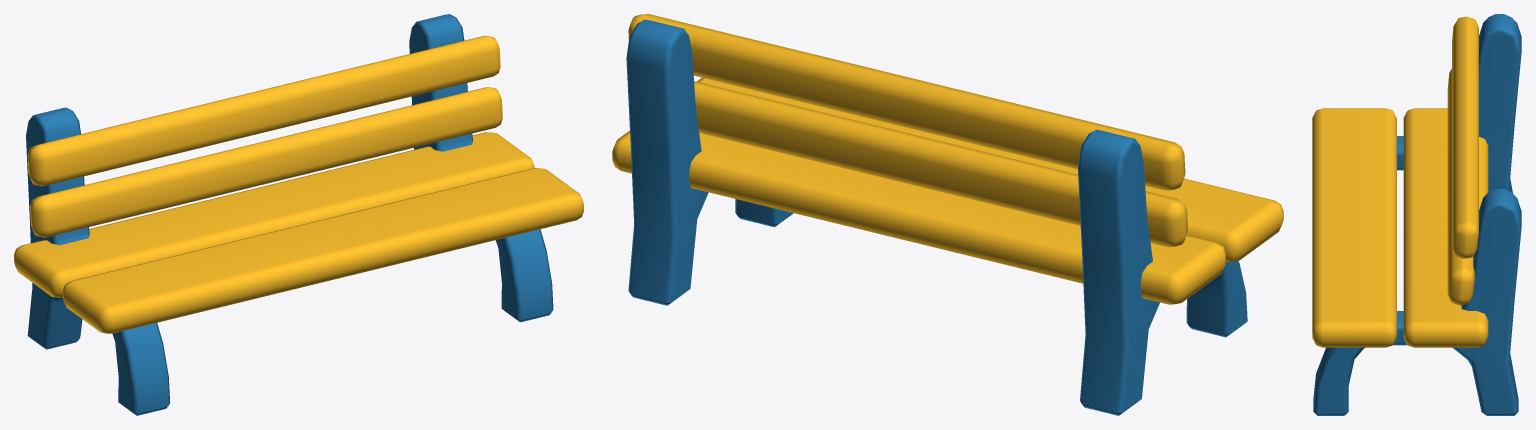
Rendered from bench.fbx.
3 views of the same model, side by side, from view 1: azimuth 30°, elevation 25°; view 2: azimuth 150°, elevation 25°; view 3: azimuth 270°, elevation 25° (orthographic). The views are drawn at different scales.
Visible parts, largest first — view 1: bench; view 2: bench; view 3: bench.
Part boxes in pixels (x1,y1,x2,y2): bench: (14,14,583,415); bench: (612,14,1283,415); bench: (1312,14,1521,415).
Bounding box in the file's own units: 1000 × 450 × 400.
1 material, 1 textured.
